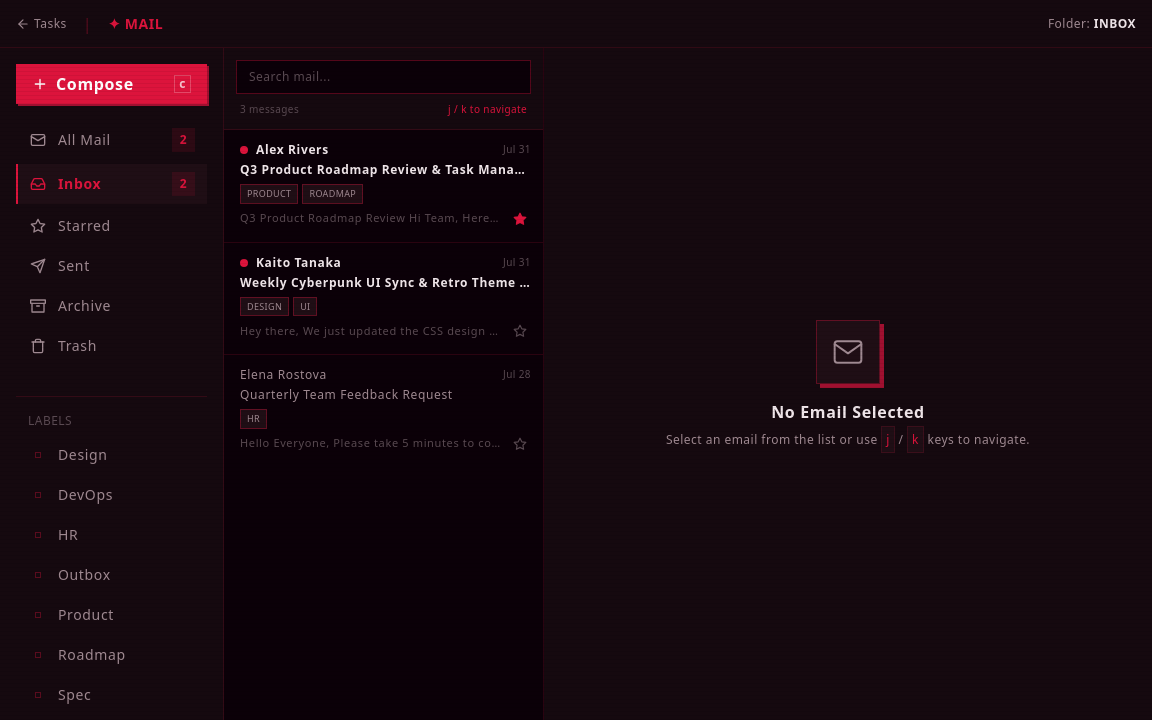
Scenario: Adversarial State Synchronization & Purity Verification (Milestone 1) › Requirement 2: Starred Folder Unstar Sync › sets selectedId to null and displays empty state when last starred email is unstarred
This screenshot has width=1152, height=720.
Click the button "Starred" at coordinates (112, 226), box [16,208,207,244]
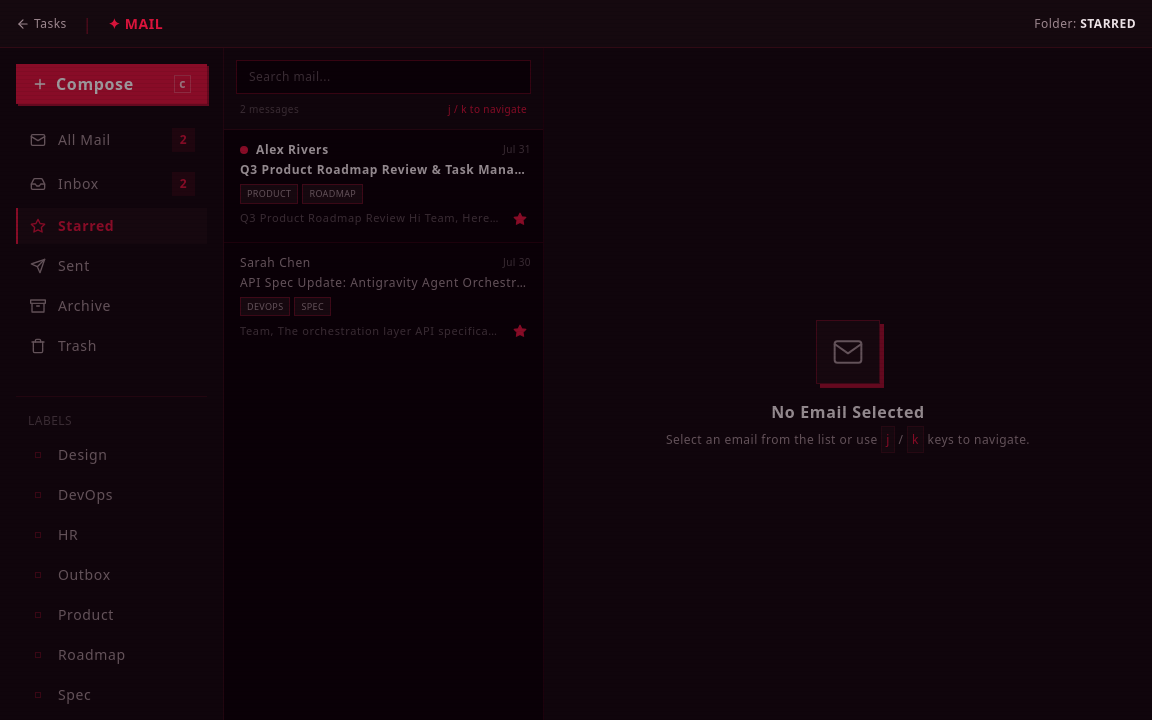
Expected: the text "Q3 Product Roadmap Review & Task Management" is shown, [240,162,531,178]
Click the button named "Unstar email" below "Alex Rivers" at coordinates (520, 218), box [509,208,531,230]
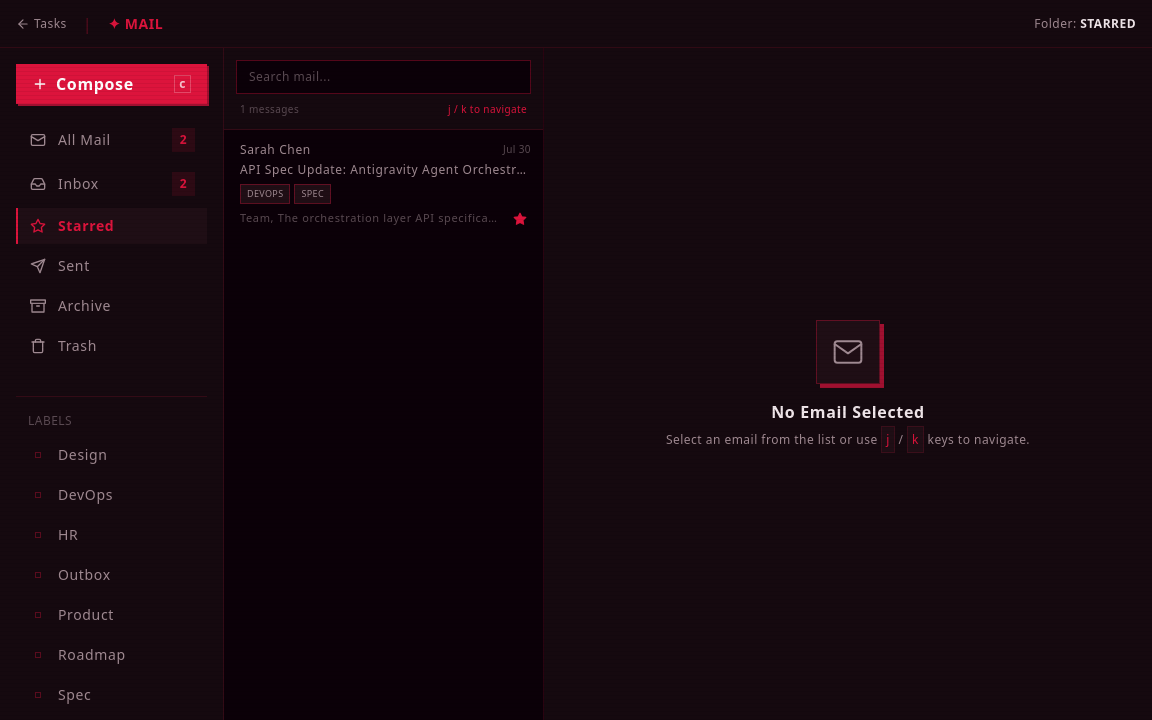
Click the button named "Unstar email" at coordinates (520, 218), box [509,208,531,230]
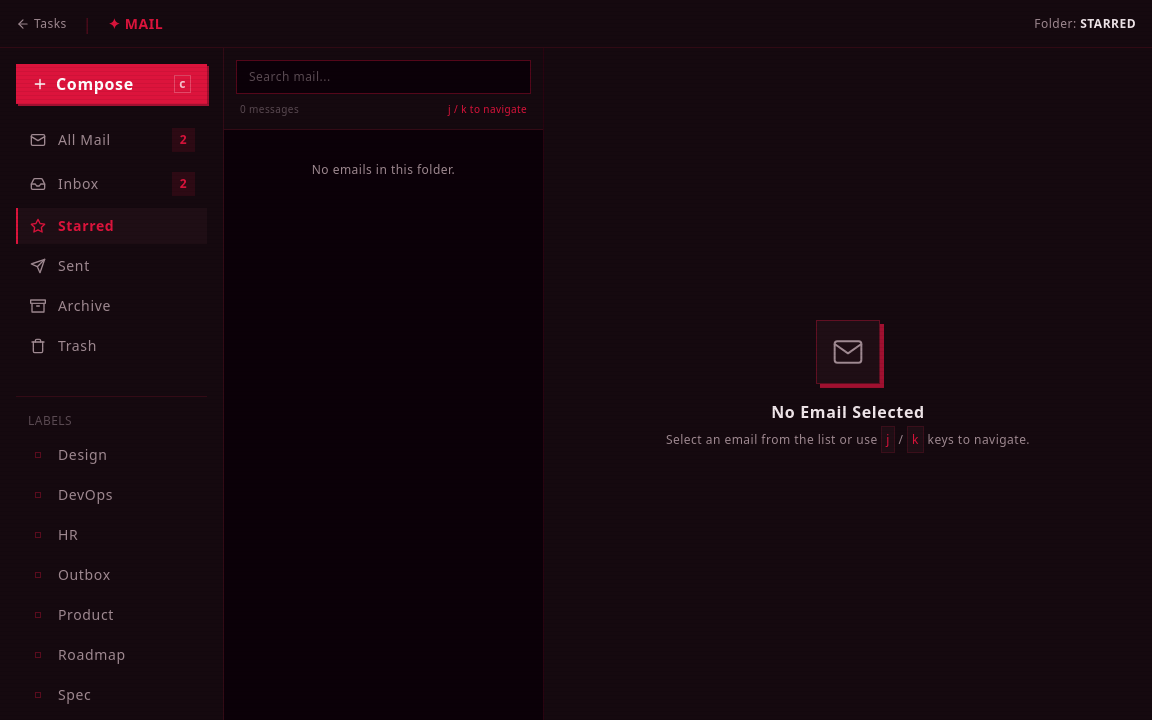
Expected: the heading "No Email Selected" is shown, [771,400,925,424]
Now the text "No emails in this folder." is shown, box [312,161,455,178]
